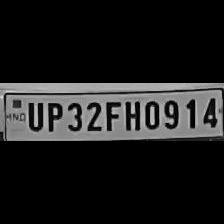0: (141, 96, 161, 130)
1: (182, 95, 198, 129)
2: (83, 98, 103, 132)
3: (64, 98, 84, 132)
4: (198, 94, 218, 128)
9: (160, 96, 180, 130)
F: (102, 98, 122, 132)
H: (121, 97, 141, 131)
P: (44, 99, 64, 133)
U: (23, 99, 43, 131)
